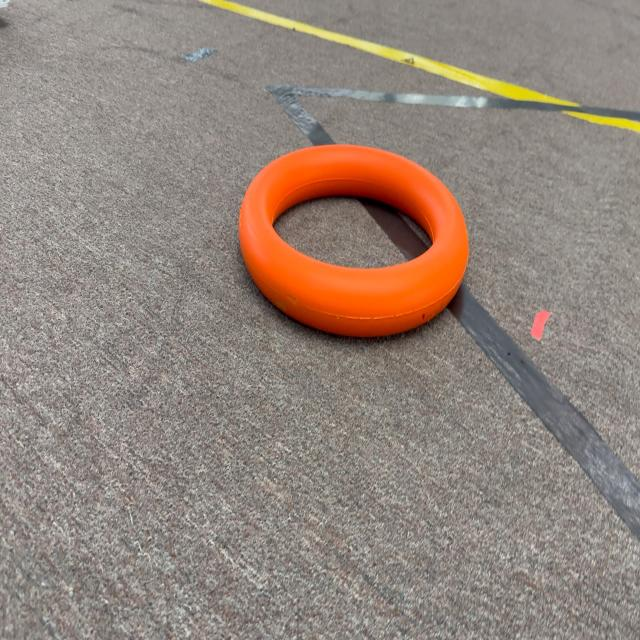note: (236, 123, 478, 350)
